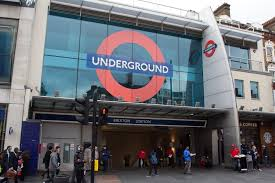London Underground: (88, 31, 175, 99), (200, 39, 217, 57)
